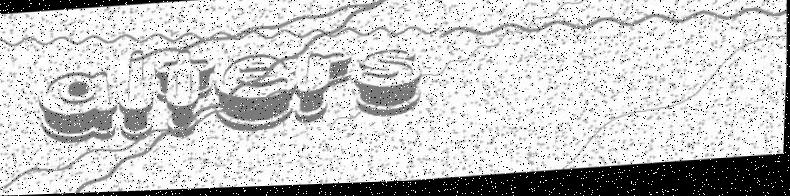a: (37, 67, 120, 145)
e: (211, 52, 300, 137)
l: (116, 49, 159, 144)
r: (295, 51, 357, 128)
s: (353, 49, 425, 122)
t: (152, 47, 217, 141)
